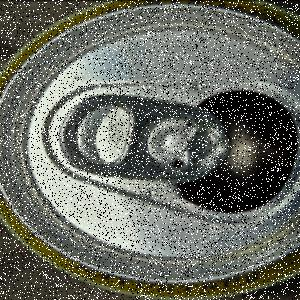Can: (2, 2, 300, 300)
